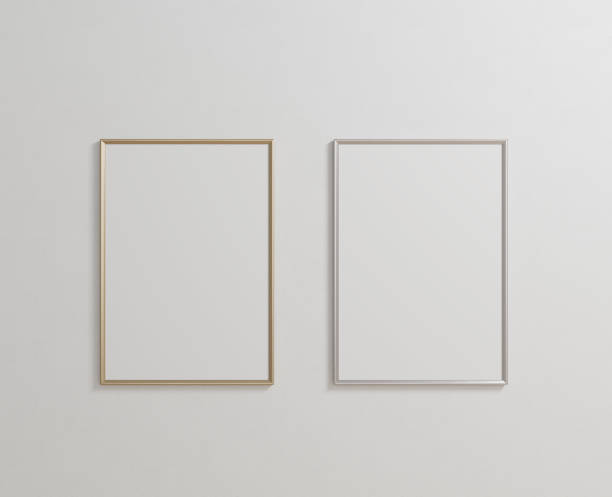dikdortgen: (99, 136, 277, 386), (332, 137, 508, 384)
